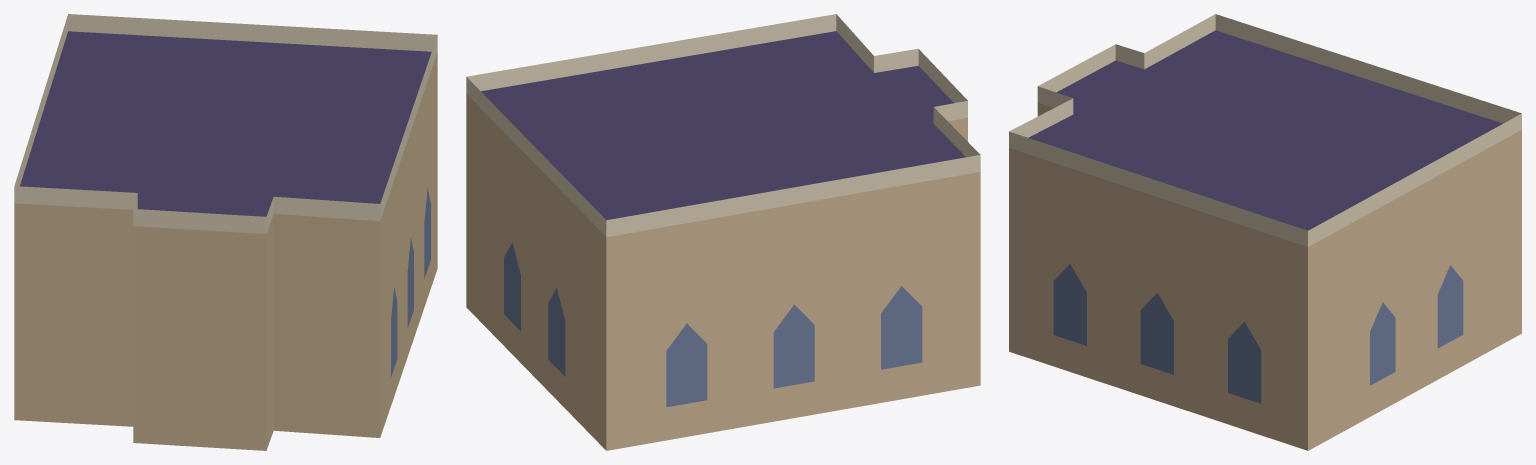
The model's file is b-109-day.glb.
The picture shows the model from 3 angles, left to right: view 1: azimuth 30°, elevation 25°; view 2: azimuth 150°, elevation 25°; view 3: azimuth 270°, elevation 25°; orthographic projection. The views are drawn at different scales.
Visible parts, largest first — view 1: campus/b-109-day-0; view 2: campus/b-109-day-0; view 3: campus/b-109-day-0.
Boxes of the visible parts, box(x1,y1,x2,y2) form: campus/b-109-day-0: box(14, 14, 437, 450); campus/b-109-day-0: box(466, 14, 980, 450); campus/b-109-day-0: box(1009, 14, 1521, 450).
Size of the model in its own units: 15.73 by 7.45 by 15.73.
